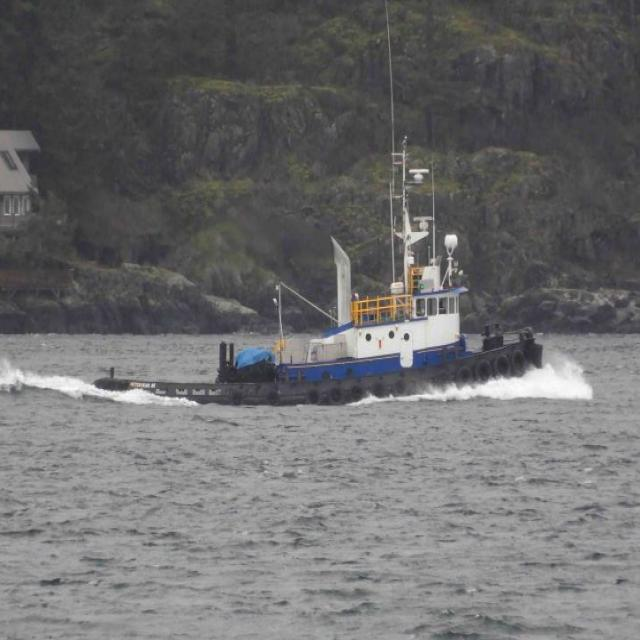fishing boat: (90, 164, 550, 404)
